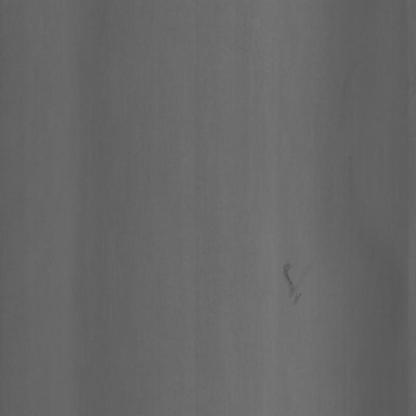water_spot: (278, 235, 307, 316)
